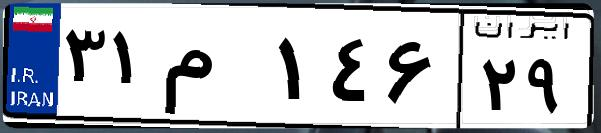1: (270, 28, 330, 110), (110, 28, 158, 98)
2: (475, 38, 525, 113)
3: (57, 26, 110, 100)
4: (330, 28, 385, 110)
6: (385, 28, 445, 110)
9: (525, 38, 570, 115)
م: (158, 20, 270, 120)
